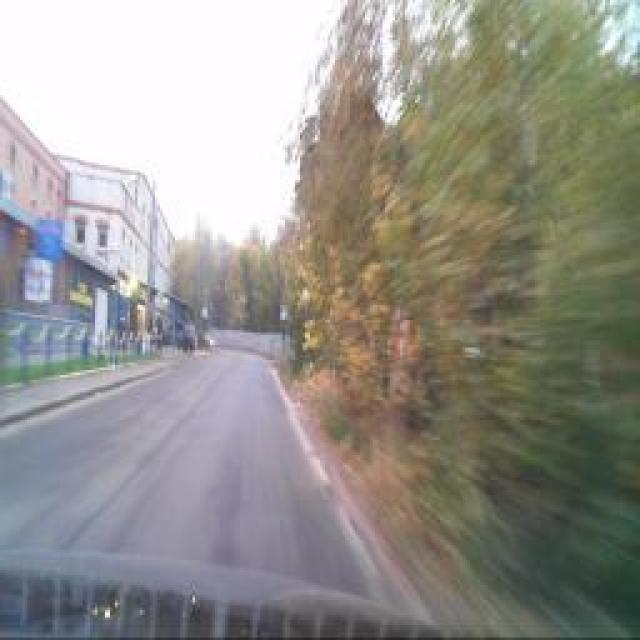sign: (281, 305, 289, 320)
